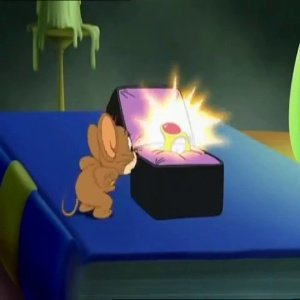Jerry: (85, 113, 140, 174)
